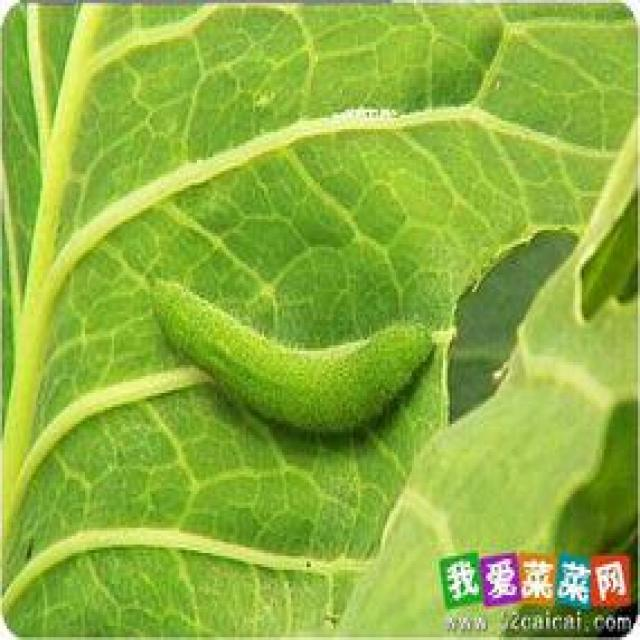armyworm: (151, 275, 450, 441)
